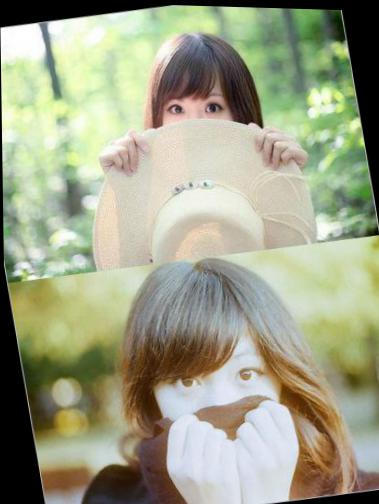NONE: (145, 75, 250, 181)
WRONG: (151, 332, 291, 474)
